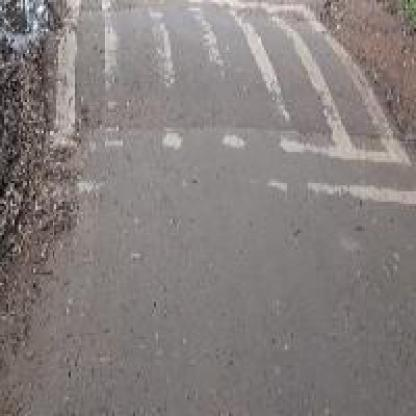Speed Bump: (6, 0, 414, 206)
